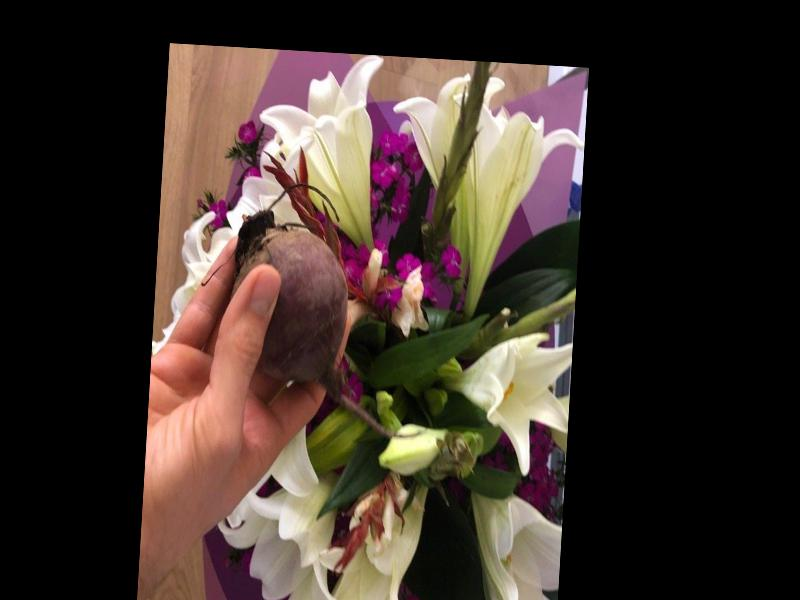Beet: (224, 180, 437, 440)
